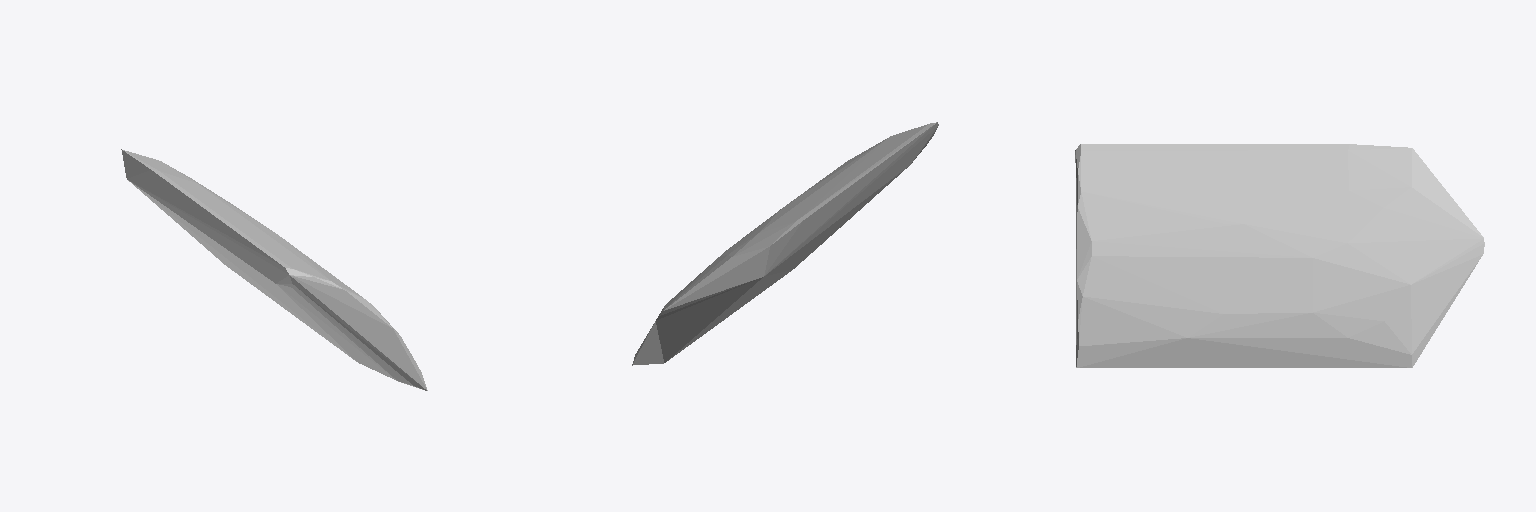
File: mug_cup_collision_1.obj
The picture shows the model from 3 angles: view 1: azimuth 30°, elevation 25°; view 2: azimuth 150°, elevation 25°; view 3: azimuth 270°, elevation 25°; orthographic projection.
Size of the model in its own units: 0.0269 by 0.0286 by 0.0679.